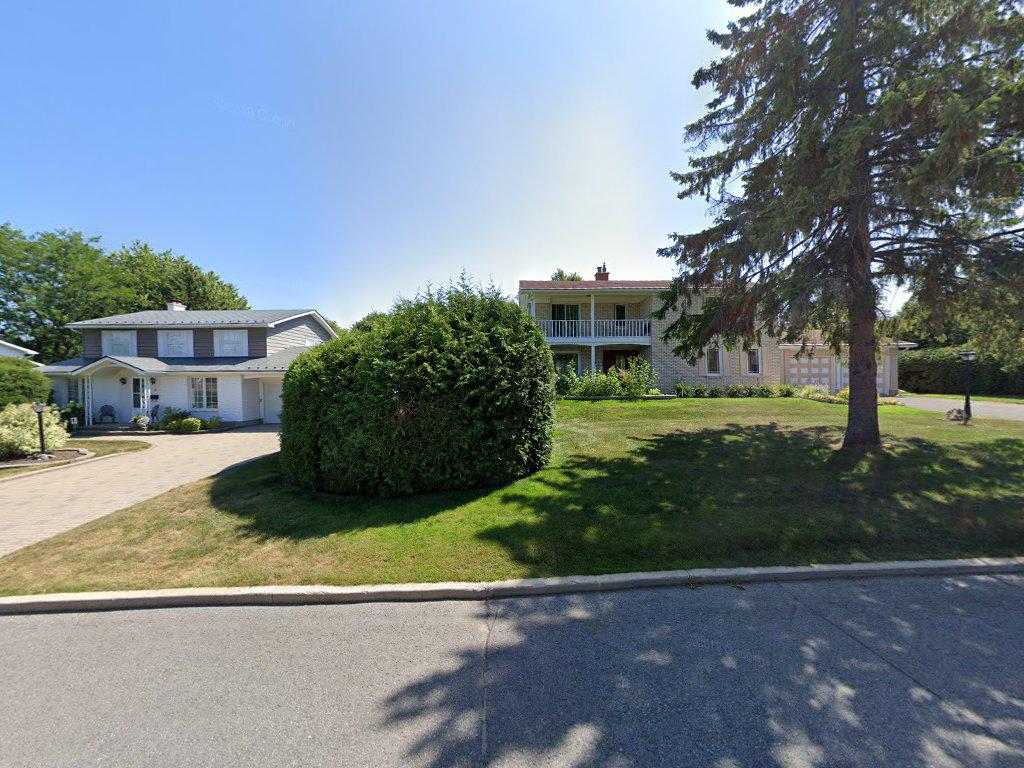trunk: (842, 234, 890, 486)
